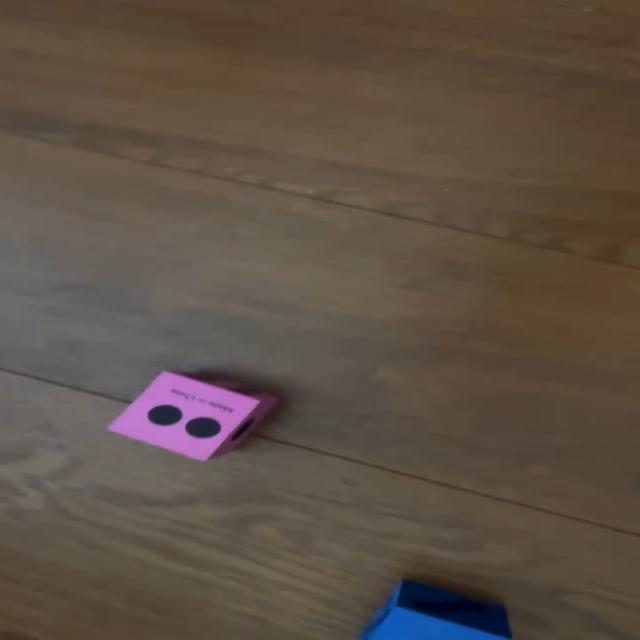blue_block: (361, 579, 515, 640)
